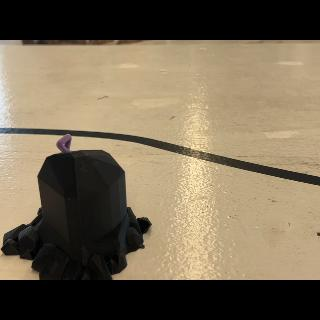teletubby: (56, 134, 72, 153)
